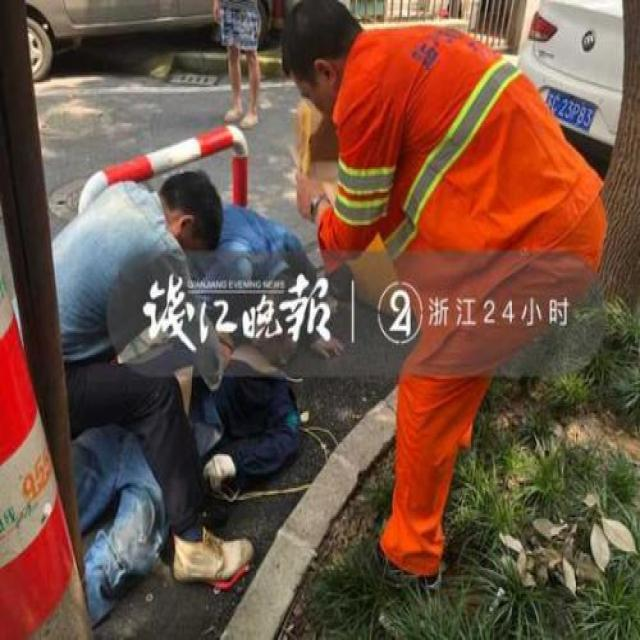fall: (91, 326, 298, 599)
